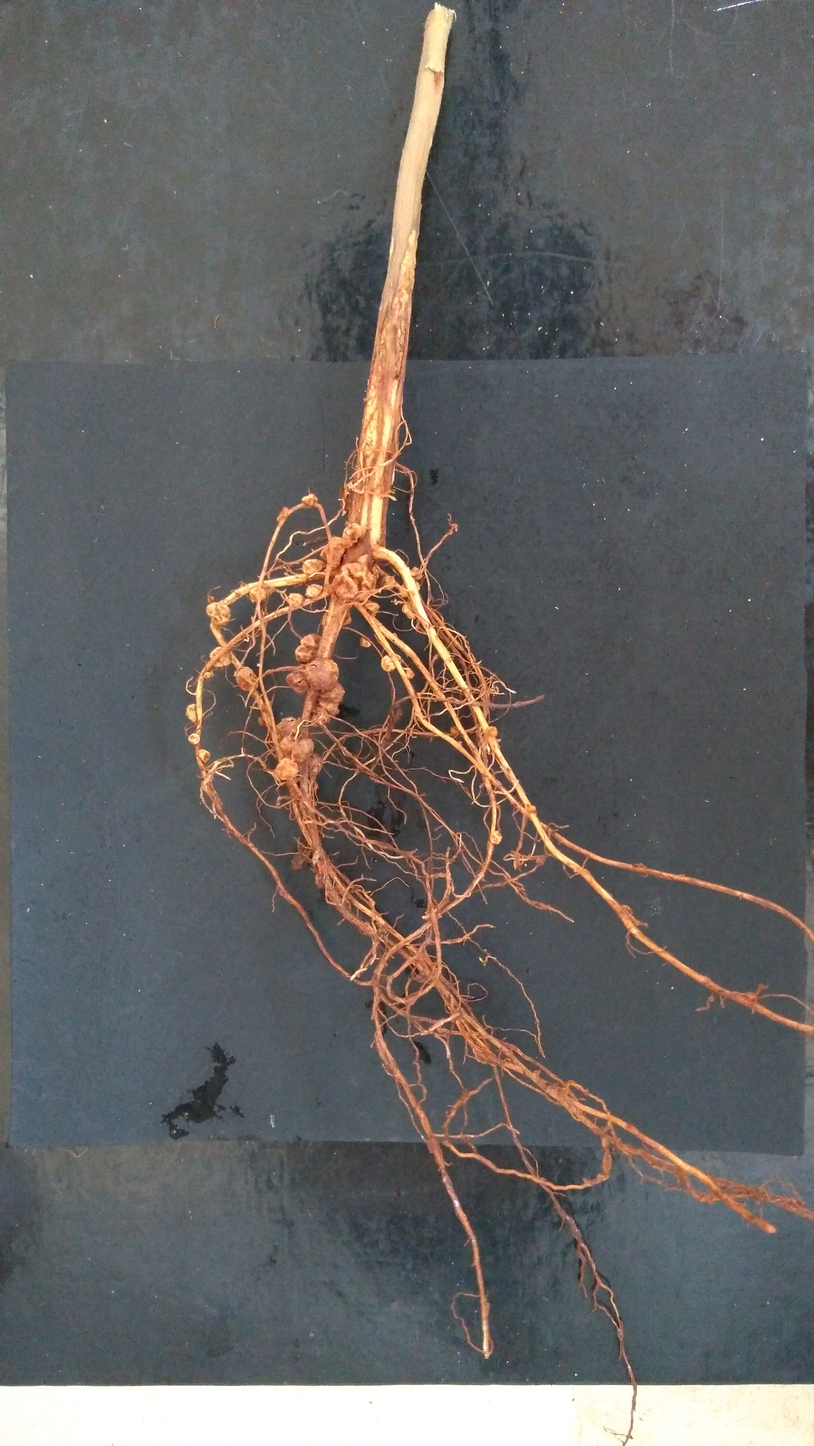nodule: (275, 718, 314, 763), (332, 563, 376, 601), (304, 659, 339, 691), (315, 681, 344, 717), (321, 537, 352, 566), (295, 634, 322, 662), (286, 664, 309, 695), (321, 607, 352, 628), (297, 752, 322, 776), (206, 602, 231, 626), (274, 758, 299, 781), (340, 523, 362, 548), (236, 667, 258, 691), (210, 646, 232, 667), (309, 706, 330, 727), (399, 579, 420, 597), (401, 600, 420, 619), (381, 654, 400, 672), (315, 869, 332, 889), (303, 559, 325, 574), (362, 600, 380, 618), (377, 575, 396, 590), (249, 586, 266, 602), (305, 583, 323, 597), (289, 593, 304, 608), (186, 704, 197, 722), (302, 494, 318, 506), (489, 830, 502, 844), (199, 749, 211, 763), (410, 567, 423, 579), (260, 701, 272, 714), (277, 507, 289, 520), (188, 733, 200, 745), (485, 725, 498, 736), (524, 804, 536, 815), (360, 637, 371, 648), (450, 725, 462, 735), (405, 667, 415, 679), (258, 716, 268, 726), (204, 670, 214, 679), (372, 567, 379, 578), (393, 633, 398, 637)
